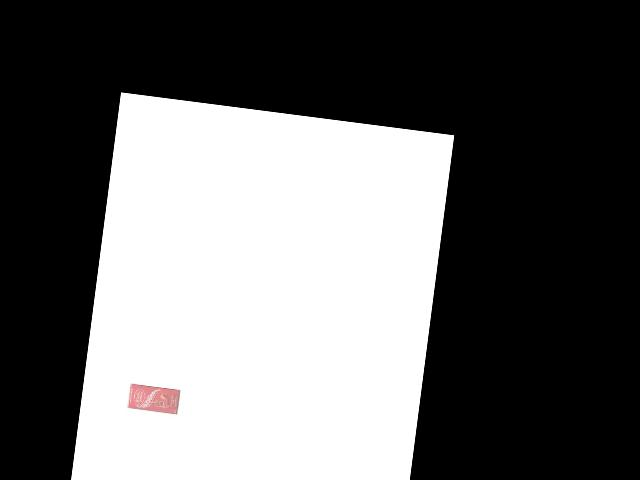chocolate: (126, 382, 184, 416)
